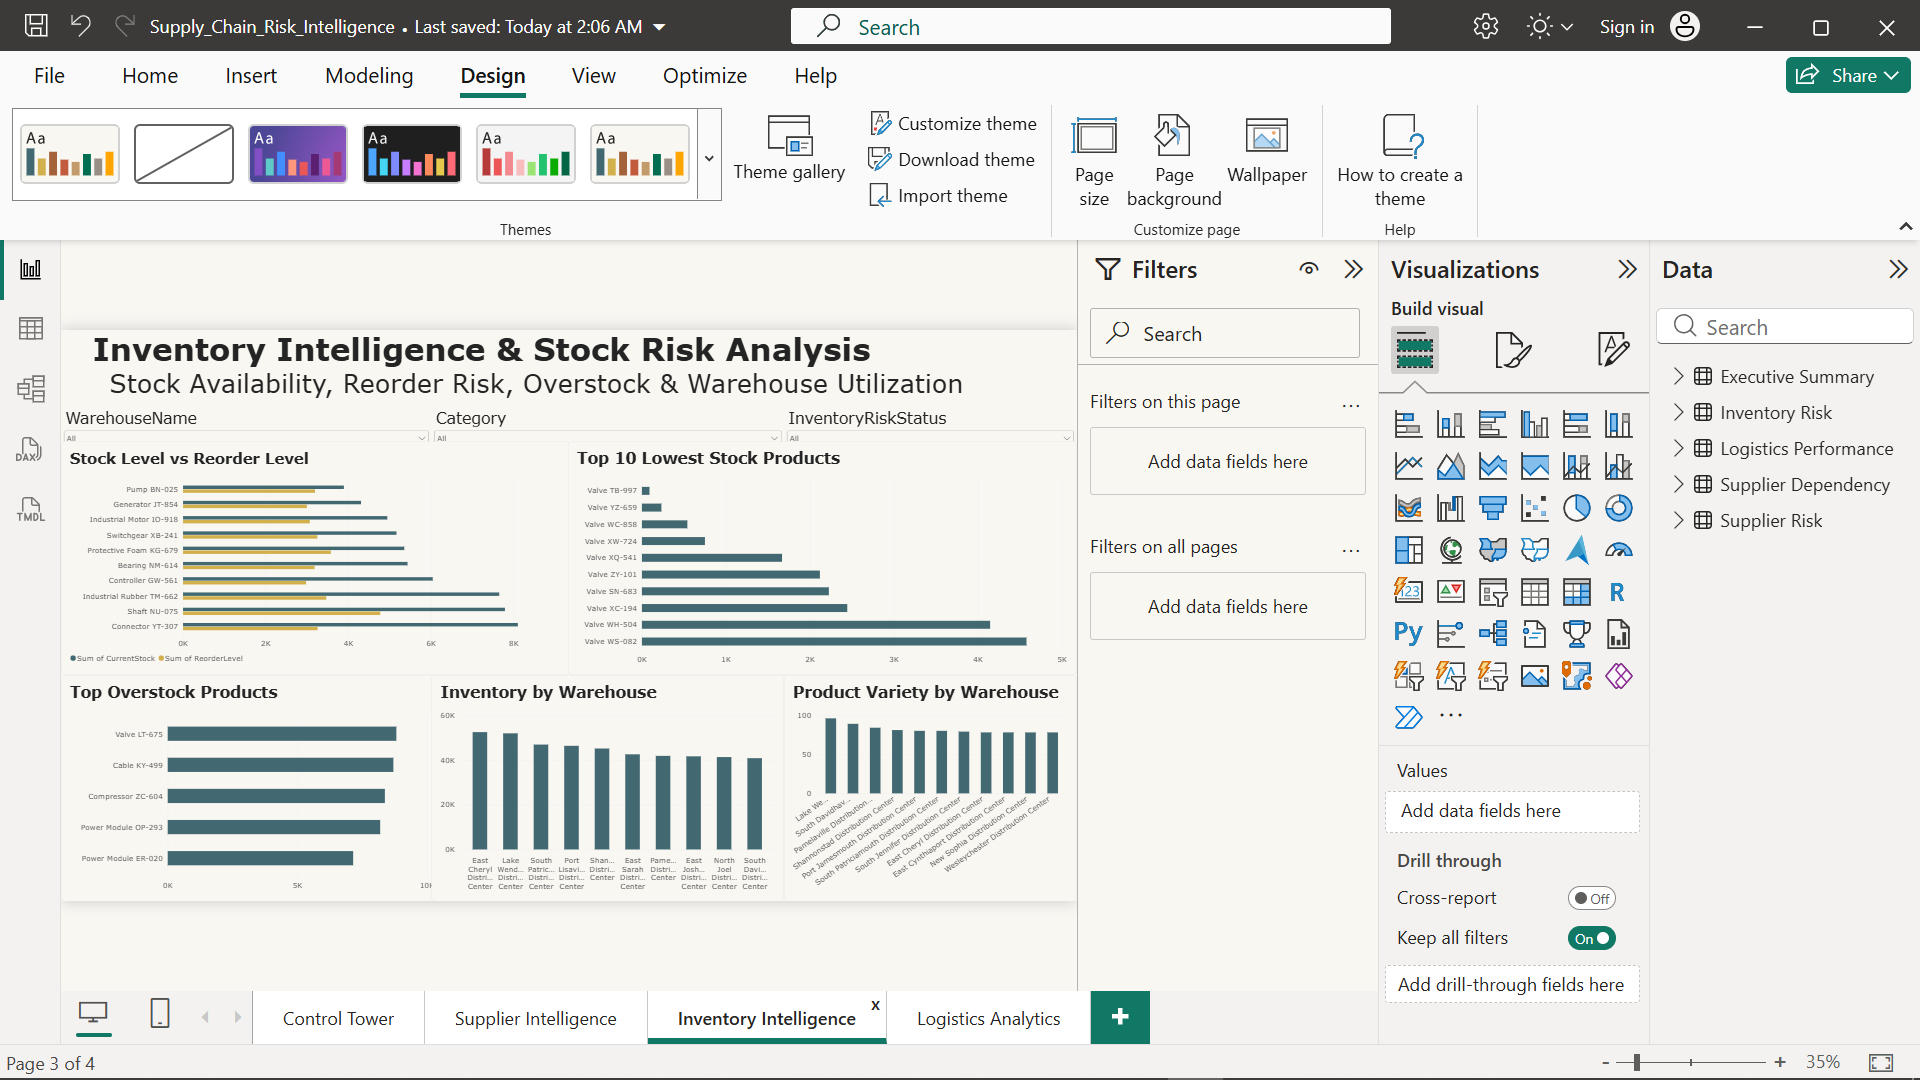

What the dashboard file says about the page in this screenshot:
{"tool":"powerbi","page":{"name":"Inventory Intelligence","canvas":[1920,1080],"ordinal":2},"visuals":[{"type":"textbox","box":[0,0,1919.1,147.4],"z":0},{"type":"clusteredBarChart","title":"Stock Level vs Reorder Level","fields":{"Category":["Inventory Risk.ProductName"],"Y":["Sum(Inventory Risk.CurrentStock)","Sum(Inventory Risk.ReorderLevel)"]},"box":[0,209.8,961,442.2],"z":1000},{"type":"barChart","title":"Top 10 Lowest Stock Products","fields":{"Category":["Inventory Risk.ProductName"],"Y":["Sum(Inventory Risk.CurrentStock)"]},"box":[958.1,209.8,961,442.2],"z":2000},{"type":"barChart","title":"Top  Overstock Products","fields":{"Category":["Inventory Risk.ProductName"],"Y":["Sum(Inventory Risk.CurrentStock)"]},"box":[0,652,722.8,428],"z":3000},{"type":"clusteredColumnChart","title":"Inventory by Warehouse","fields":{"Category":["Inventory Risk.WarehouseName"],"Y":["Sum(Inventory Risk.CurrentStock)"]},"box":[700.2,652,666.1,428],"z":4000},{"type":"clusteredColumnChart","title":"Product Variety by Warehouse","fields":{"Category":["Inventory Risk.WarehouseName"],"Y":["Count(Inventory Risk.ProductName)"]},"box":[1366.3,652,552.8,428],"z":5000},{"type":"slicer","fields":{"Values":["Inventory Risk.WarehouseName"]},"box":[0,147.4,700.2,62.4],"z":5001},{"type":"slicer","fields":{"Values":["Inventory Risk.Category"]},"box":[700.2,147.4,666.1,62.4],"z":5002},{"type":"slicer","fields":{"Values":["Inventory Risk.InventoryRiskStatus"]},"box":[1366.3,147.4,552.8,62.4],"z":5003}]}

Visuals, with their boxes on the page's 1920x1080 design canvas (x1, y1, x2, y2). These are canvas units, not pixel positions in the 1920x1080 screenshot, which may show the page scaled, cropped or inside an application window:
textbox: <box>0,0,1919,147</box>
"Stock Level vs Reorder Level" clusteredBarChart: <box>0,210,961,652</box>
"Top 10 Lowest Stock Products" barChart: <box>958,210,1919,652</box>
"Top  Overstock Products" barChart: <box>0,652,723,1080</box>
"Inventory by Warehouse" clusteredColumnChart: <box>700,652,1366,1080</box>
"Product Variety by Warehouse" clusteredColumnChart: <box>1366,652,1919,1080</box>
slicer - Inventory Risk.WarehouseName: <box>0,147,700,210</box>
slicer - Inventory Risk.Category: <box>700,147,1366,210</box>
slicer - Inventory Risk.InventoryRiskStatus: <box>1366,147,1919,210</box>
